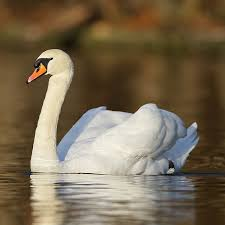swan: (23, 46, 202, 175)
